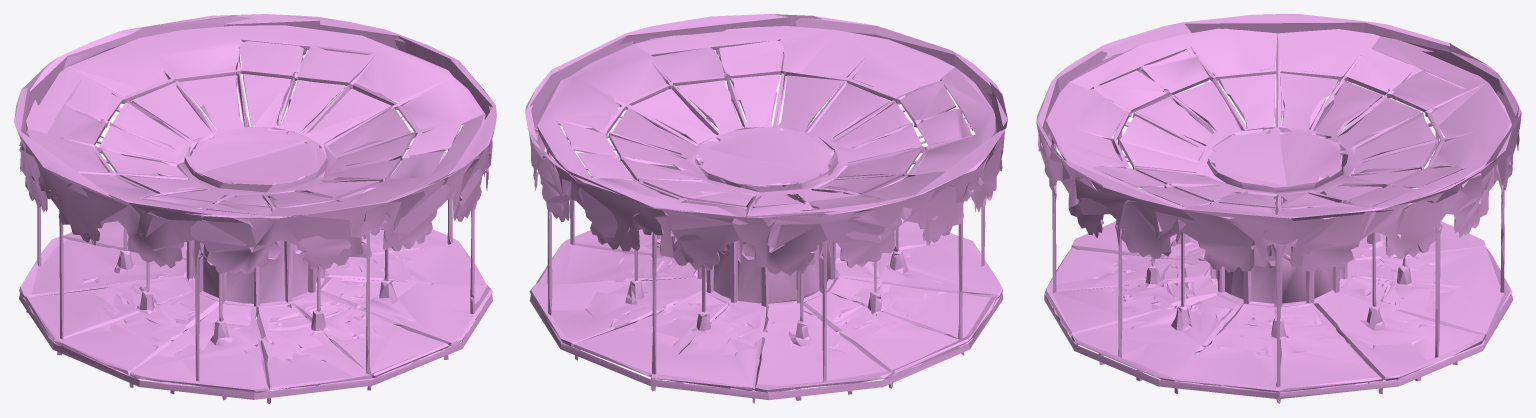
The model's file is park_carousel_body.glb.
3 renders of one model, left to right at view 1: azimuth 30°, elevation 25°; view 2: azimuth 150°, elevation 25°; view 3: azimuth 270°, elevation 25°, orthographic.
Visible parts, largest first — view 1: park_carousel_body; view 2: park_carousel_body; view 3: park_carousel_body.
Part boxes in pixels (<box>): park_carousel_body: <box>14,14,496,403</box>; park_carousel_body: <box>525,14,1007,403</box>; park_carousel_body: <box>1036,14,1521,403</box>.
Bounding box in the file's own units: 0.9993 × 0.4371 × 0.9985.
